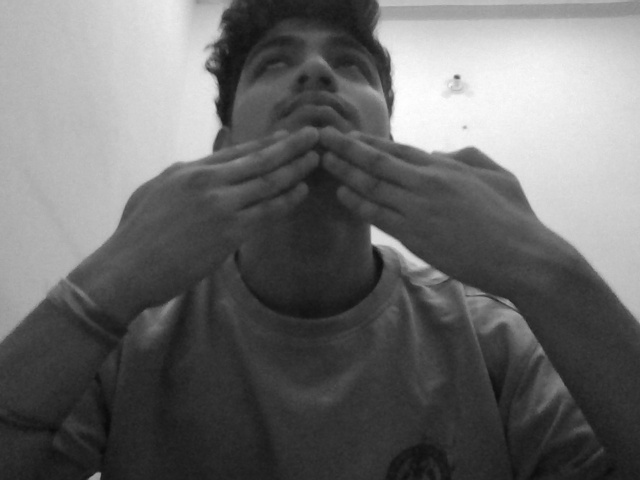Thanks: (88, 55, 581, 338)
